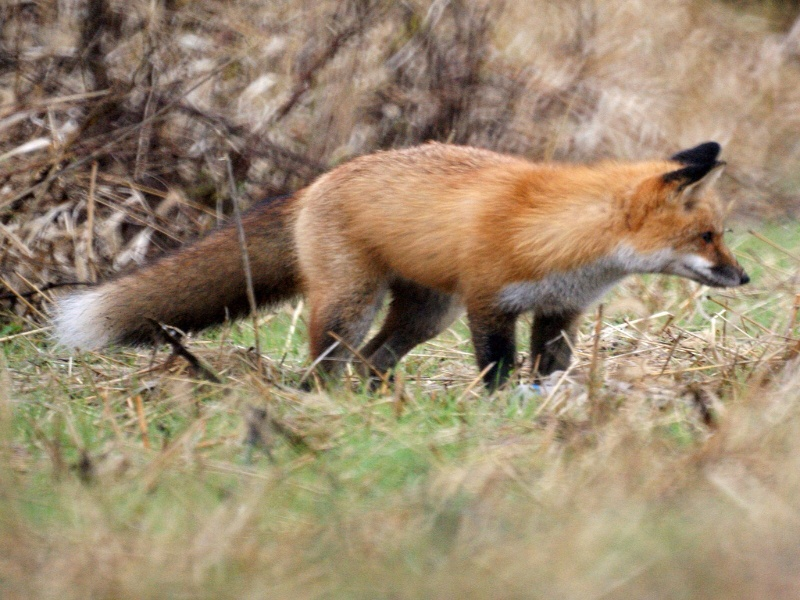fox: (58, 126, 757, 422)
